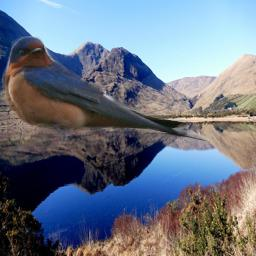Swallow: (2, 36, 210, 143)
